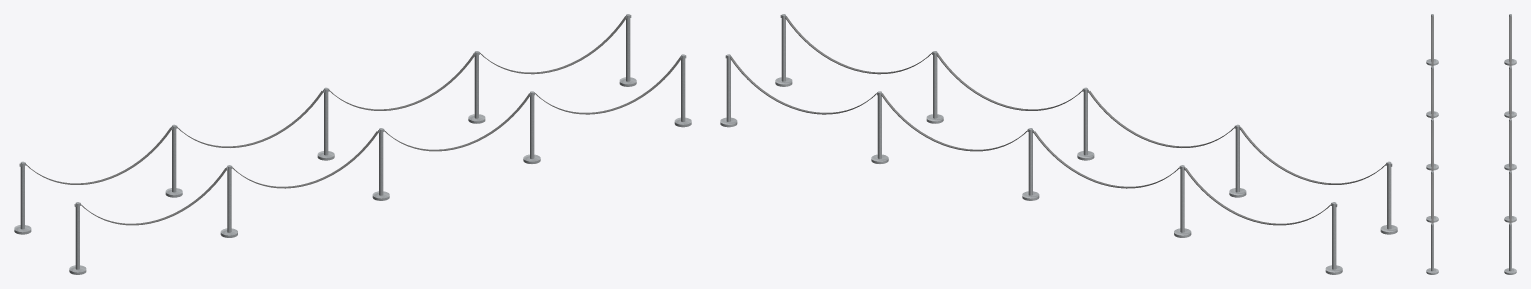
Rendered from Fila 3.fbx.
The picture shows the model from 3 angles, left to right: view 1: azimuth 30°, elevation 25°; view 2: azimuth 150°, elevation 25°; view 3: azimuth 270°, elevation 25°; orthographic projection. The views are drawn at different scales.
Parts seen in each view (by area): view 1: Arc003, Arc002, Arc001, Arc013, Arc007, Arc015, Arc008, Arc009; view 2: Arc009, Arc008, Arc007, Arc015, Arc001, Arc013, Arc002, Arc003; view 3: Arc002, Arc008, Arc013, Arc015, Arc001, Arc003, Arc007, Arc009, Cylinder007, Cylinder023, Cylinder003, Cylinder005 (+8 smaller).
Boxes of the visible parts, bbox=[...] form: Arc003: bbox=[232, 131, 378, 188]; Arc002: bbox=[535, 57, 681, 114]; Arc001: bbox=[384, 94, 530, 151]; Arc013: bbox=[80, 168, 227, 225]; Arc007: bbox=[329, 54, 475, 110]; Arc015: bbox=[25, 127, 171, 184]; Arc008: bbox=[480, 17, 626, 74]; Arc009: bbox=[177, 91, 323, 147]; Arc009: bbox=[1033, 131, 1179, 188]; Arc008: bbox=[730, 57, 876, 114]; Arc007: bbox=[881, 94, 1027, 151]; Arc015: bbox=[1184, 168, 1331, 225]; Arc001: bbox=[936, 54, 1082, 110]; Arc013: bbox=[1240, 127, 1386, 184]; Arc002: bbox=[785, 17, 931, 74]; Arc003: bbox=[1088, 91, 1234, 147]; Arc002: bbox=[1431, 173, 1433, 223]; Arc008: bbox=[1509, 173, 1511, 223]; Arc013: bbox=[1431, 16, 1433, 66]; Arc015: bbox=[1509, 16, 1511, 66]; Arc001: bbox=[1431, 121, 1433, 170]; Arc003: bbox=[1431, 69, 1433, 118]; Arc007: bbox=[1509, 121, 1511, 170]; Arc009: bbox=[1509, 69, 1511, 118]; Cylinder007: bbox=[1431, 223, 1433, 271]; Cylinder023: bbox=[1509, 223, 1511, 271]; Cylinder003: bbox=[1431, 119, 1433, 166]; Cylinder005: bbox=[1431, 171, 1433, 218].
Bounding box in the file's own units: 325 × 34.2 × 57.78.
2 materials, 1 textured.
